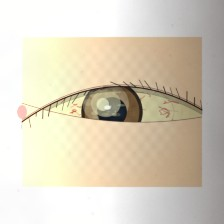corneal_ulcer: (82, 84, 130, 123)
